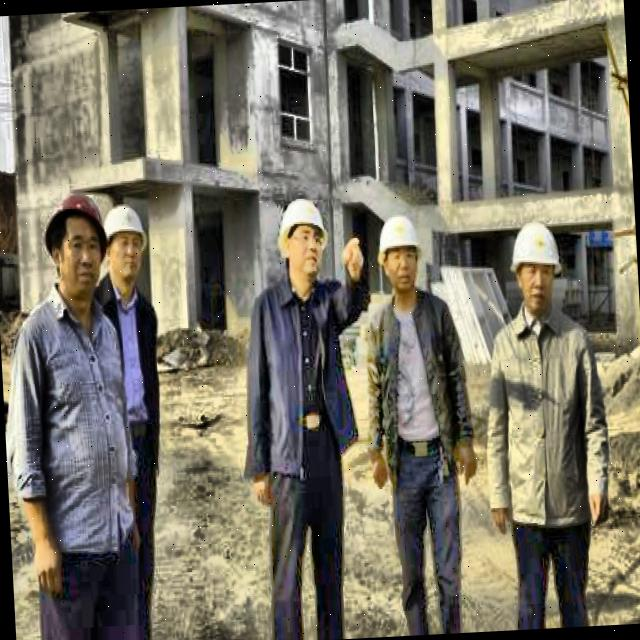helmet: (41, 190, 108, 309), (506, 215, 568, 318), (274, 188, 330, 289), (100, 194, 148, 298), (373, 208, 426, 300)
